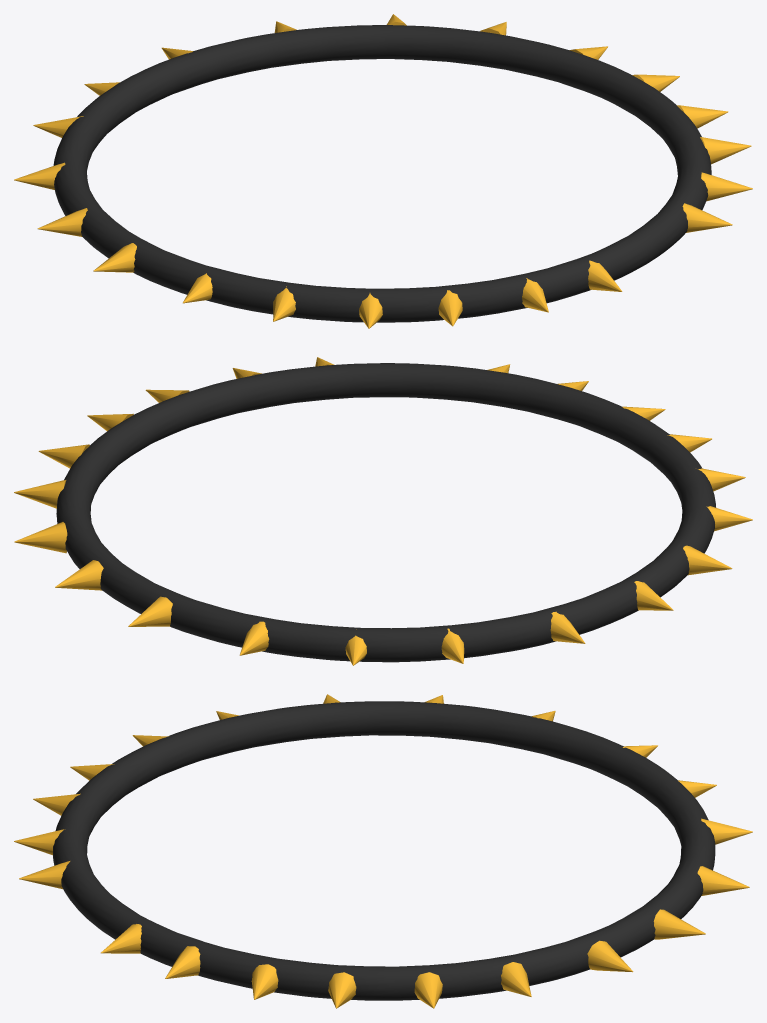
3 renders of one model, top to bottom at view 1: azimuth 30°, elevation 25°; view 2: azimuth 150°, elevation 25°; view 3: azimuth 270°, elevation 25°, orthographic.
Visible parts, largest first — view 1: 324, neck_spike; view 2: 324, neck_spike; view 3: 324, neck_spike.
Part boxes in pixels (<box>): 324: <box>53,25,711,322</box>; neck_spike: <box>14,14,752,328</box>; 324: <box>56,363,715,662</box>; neck_spike: <box>14,357,752,665</box>; 324: <box>53,701,715,1000</box>; neck_spike: <box>14,694,752,1008</box>.
Bounding box in the file's own units: 53.33 × 53.07 × 2.51.
